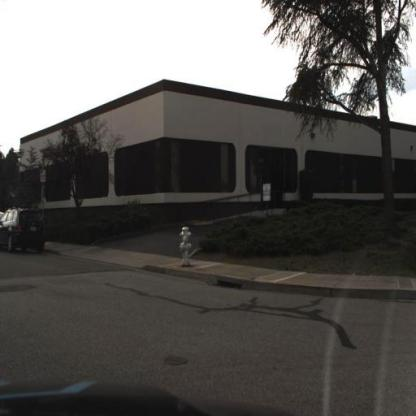car: (3, 205, 50, 258)
